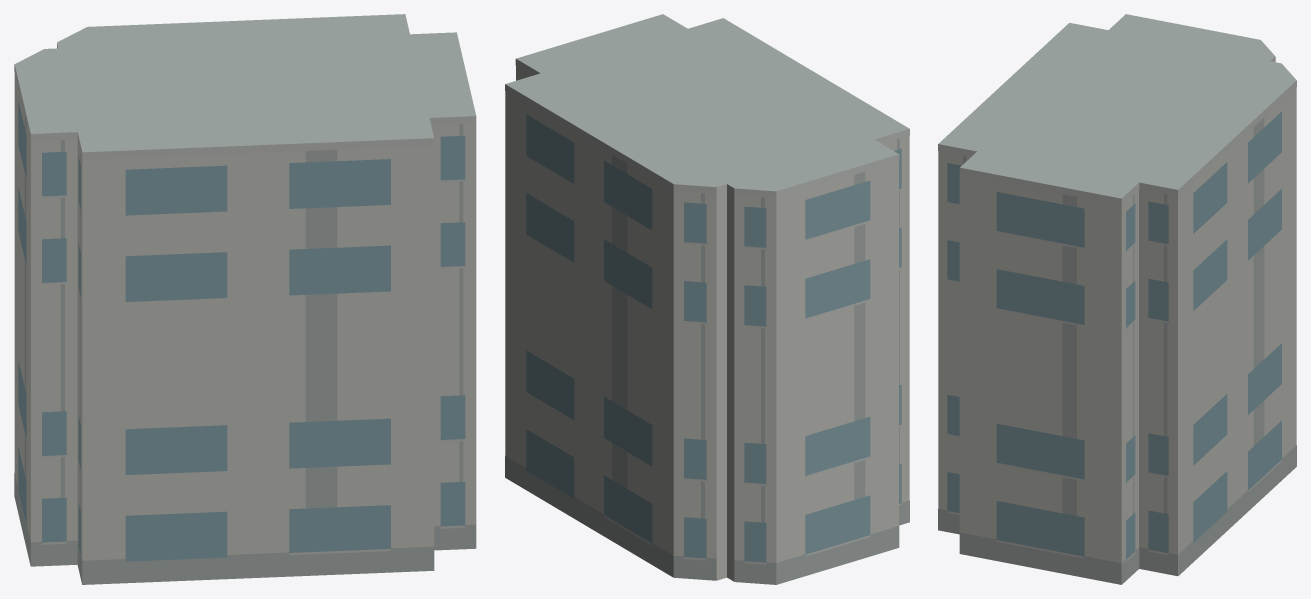
File: survey-upis-32550474.glb
The picture shows the model from 3 angles, left to right: view 1: azimuth 30°, elevation 25°; view 2: azimuth 150°, elevation 25°; view 3: azimuth 270°, elevation 25°; orthographic projection. The views are drawn at different scales.
Parts seen in each view (by area): view 1: survey-upis-32550474.tmp; view 2: survey-upis-32550474.tmp; view 3: survey-upis-32550474.tmp.
Part boxes in pixels (<box>): survey-upis-32550474.tmp: <box>14,14,476,584</box>; survey-upis-32550474.tmp: <box>505,14,909,584</box>; survey-upis-32550474.tmp: <box>938,14,1296,584</box>.
Bounding box in the file's own units: 14.05 × 13.7 × 11.54.
